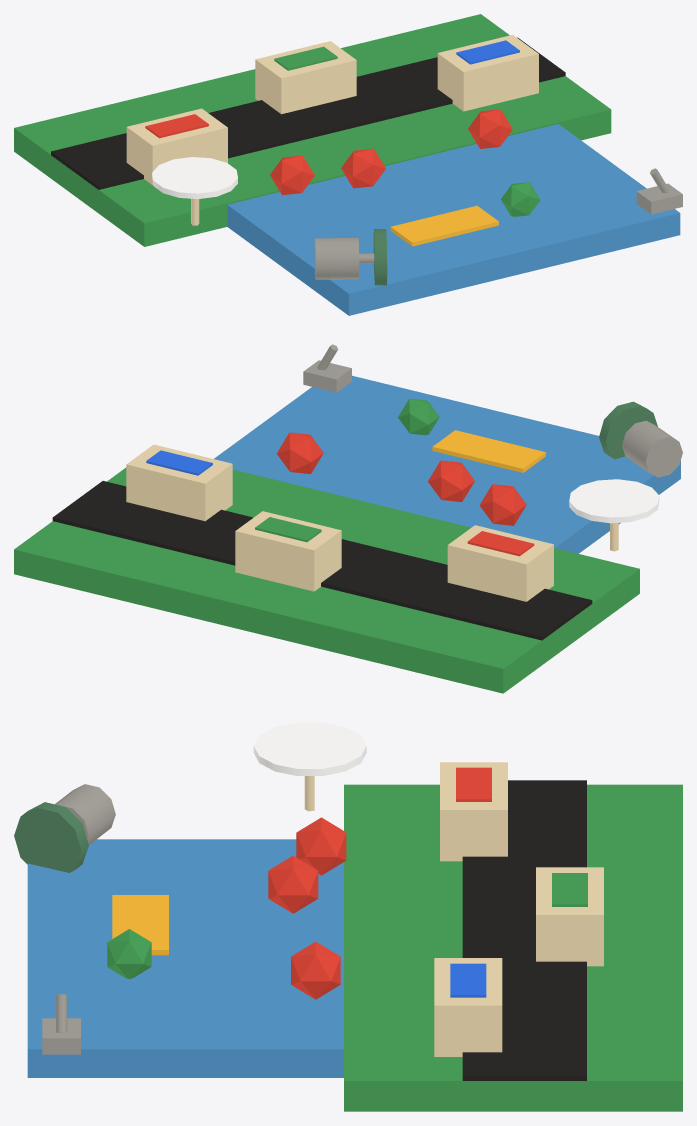
File: ipdae-gate.glb
3 renders of one model, top to bottom at view 1: azimuth 30°, elevation 25°; view 2: azimuth 150°, elevation 25°; view 3: azimuth 270°, elevation 25°, orthographic. The views are drawn at different scales.
Size of the model in its own units: 6.2 by 0.915 by 5.92.
